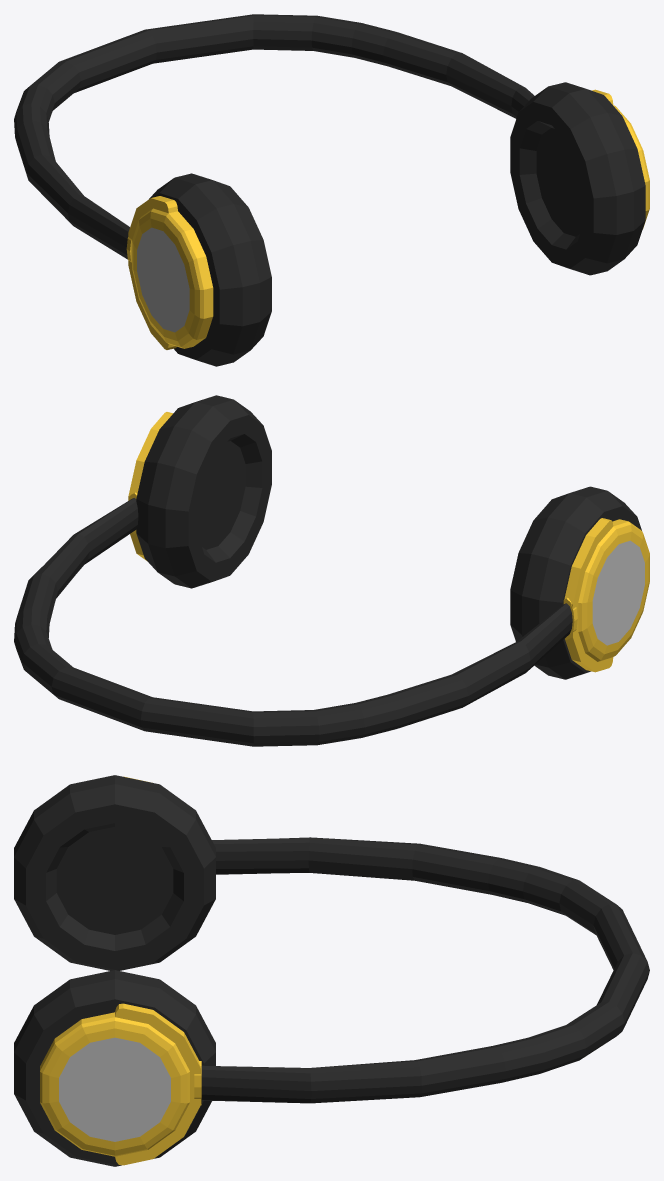
Rendered from Head Phone_2.fbx.
The picture shows the model from 3 angles, top to bottom: view 1: azimuth 30°, elevation 25°; view 2: azimuth 150°, elevation 25°; view 3: azimuth 270°, elevation 25°; orthographic projection. The views are drawn at different scales.
Parts seen in each view (by area): view 1: Head Phone_2; view 2: Head Phone_2; view 3: Head Phone_2.
Part boxes in pixels (x1,y1,x2,y2): Head Phone_2: (14,14,649,366); Head Phone_2: (14,395,649,746); Head Phone_2: (14,775,649,1166).
Size of the model in its own units: 0.1523 by 0.0553 by 0.1696.
